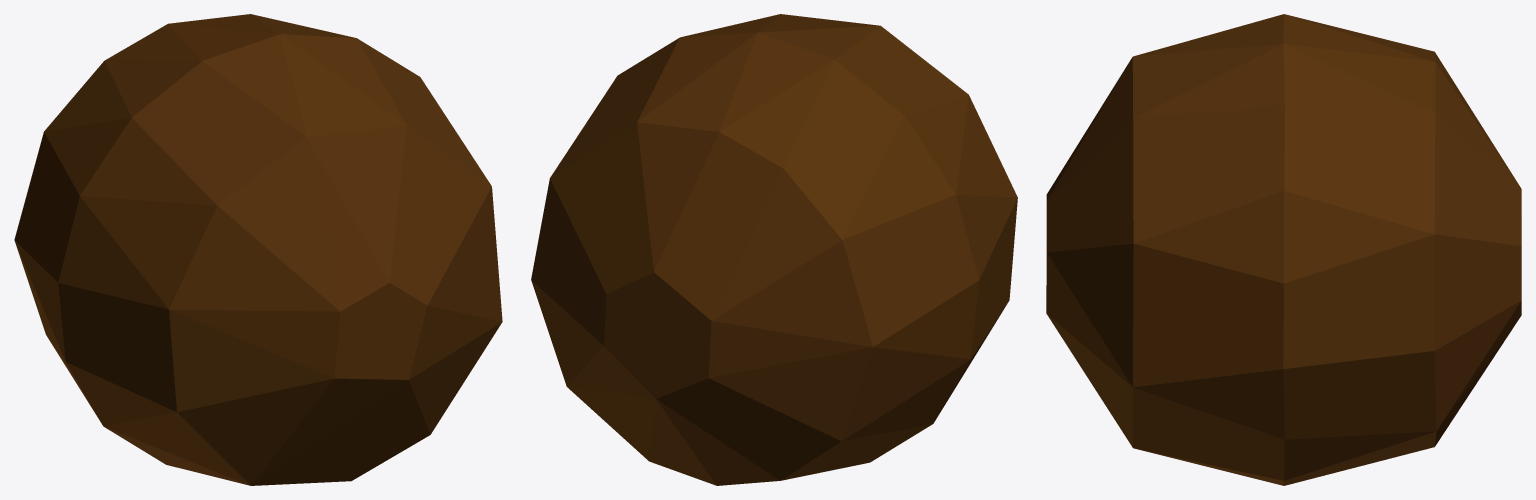
The model's file is Walnut.obj.
3 views of the same model, side by side, from view 1: azimuth 30°, elevation 25°; view 2: azimuth 150°, elevation 25°; view 3: azimuth 270°, elevation 25° (orthographic).
Parts seen in each view (by area): view 1: Cylinder; view 2: Cylinder; view 3: Cylinder.
Part boxes in pixels (x1=…): Cylinder: x1=14, y1=14, x2=502, y2=485; Cylinder: x1=531, y1=14, x2=1017, y2=485; Cylinder: x1=1046, y1=14, x2=1521, y2=485.
Size of the model in its own units: 0.0418 by 0.0418 by 0.0418.
